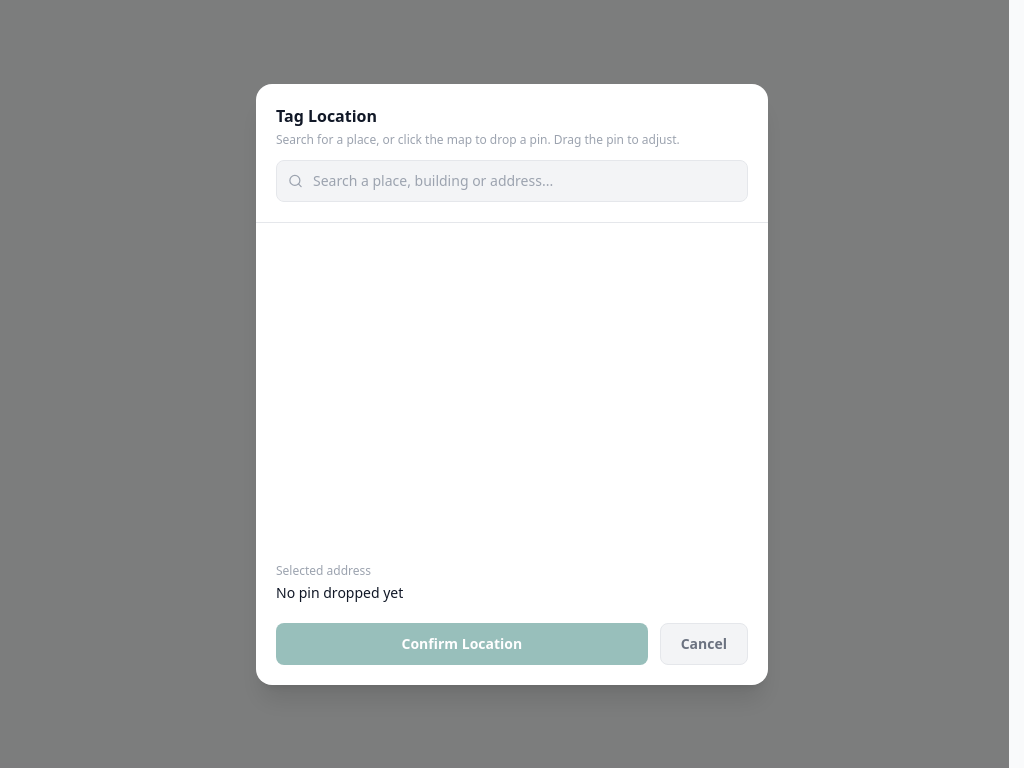
LocationPicker place search › debounces search, limits it to Malaysia, and lists returned suggestions
The image size is (1024, 768).
Type "k" into the field with placeholder "Search a place, building or address...".
click(512, 180); type("k")  # box [276,160,748,202]
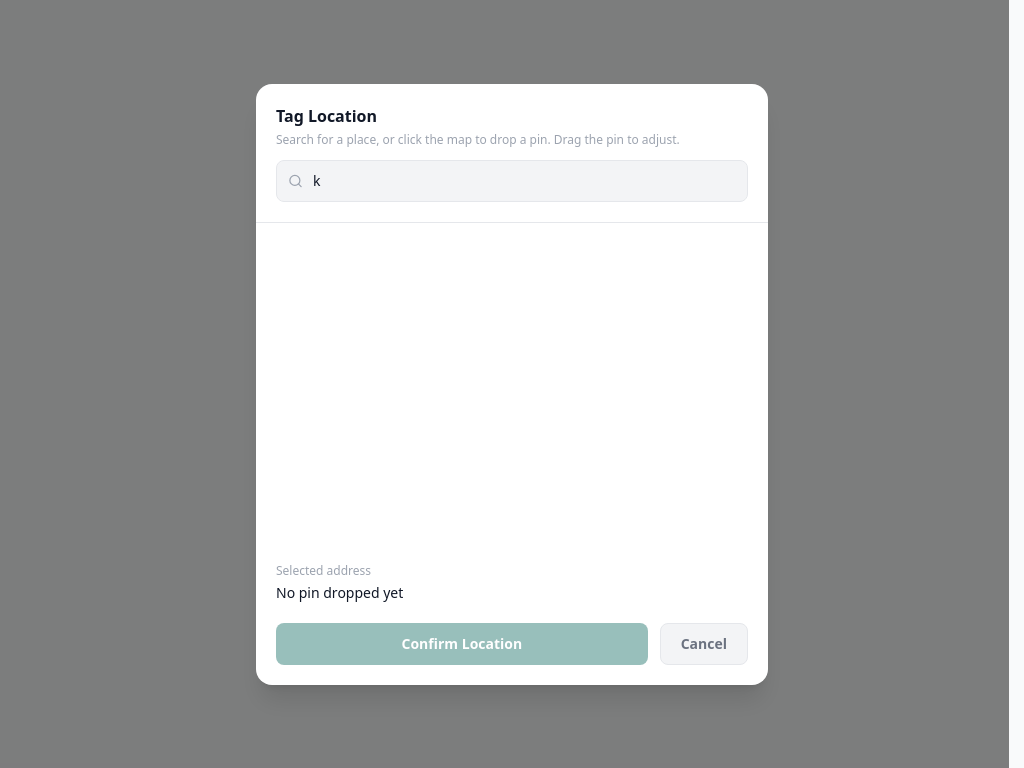
Replace the text in the field with placeholder "Search a place, building or address..." with " KLCC " at [512, 180], box [276,160,748,202]
Wait 300 ms
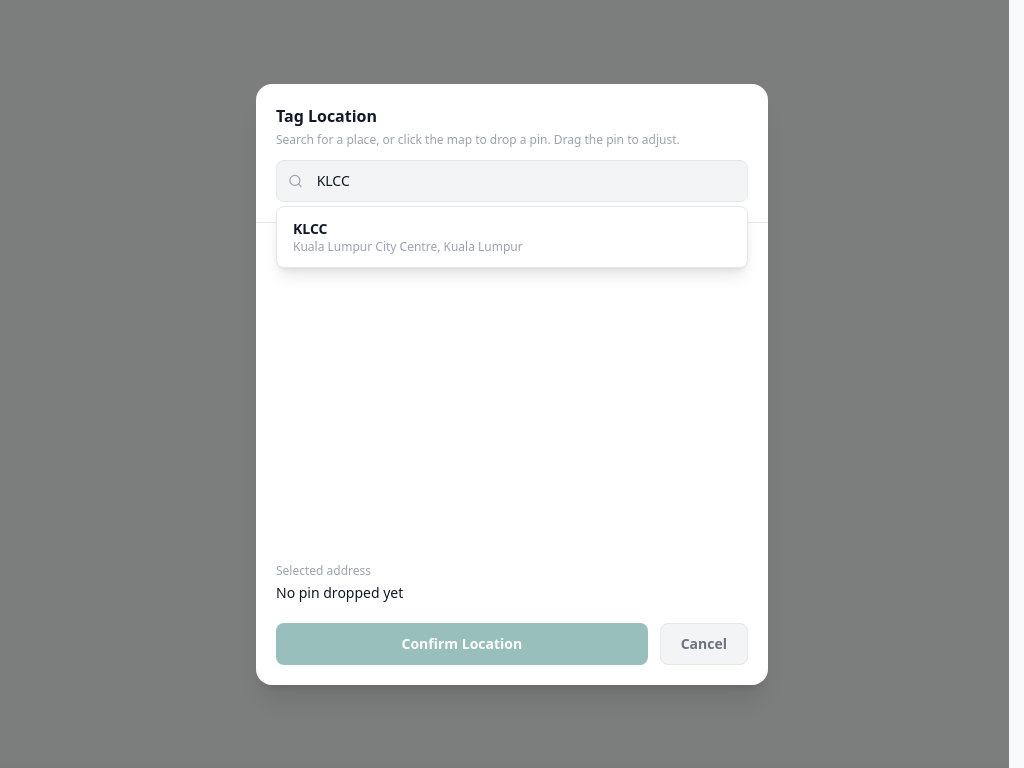
Expected: the text "KLCC" is shown, [293,218,328,238]
Expected: the text "Kuala Lumpur City Centre, Kuala Lumpur" is shown, [293,238,523,254]
